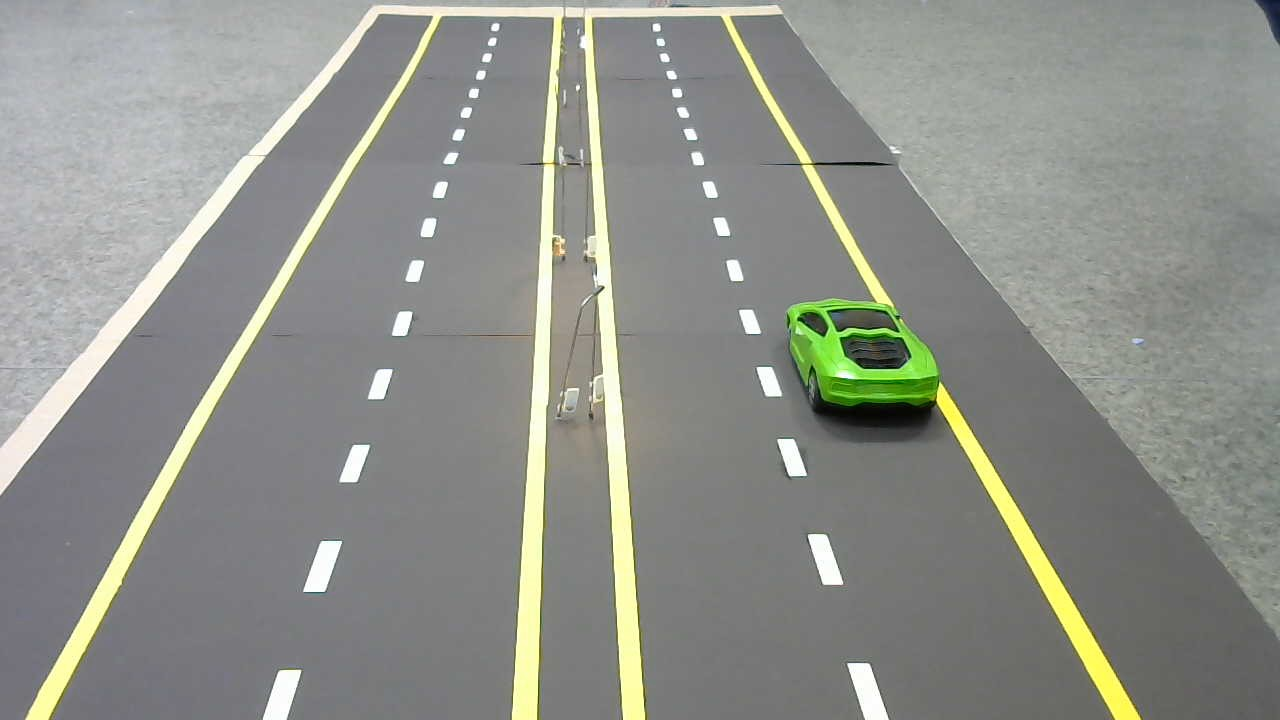back_car: (782, 294, 946, 419)
